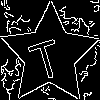T: (24, 30, 65, 82)
